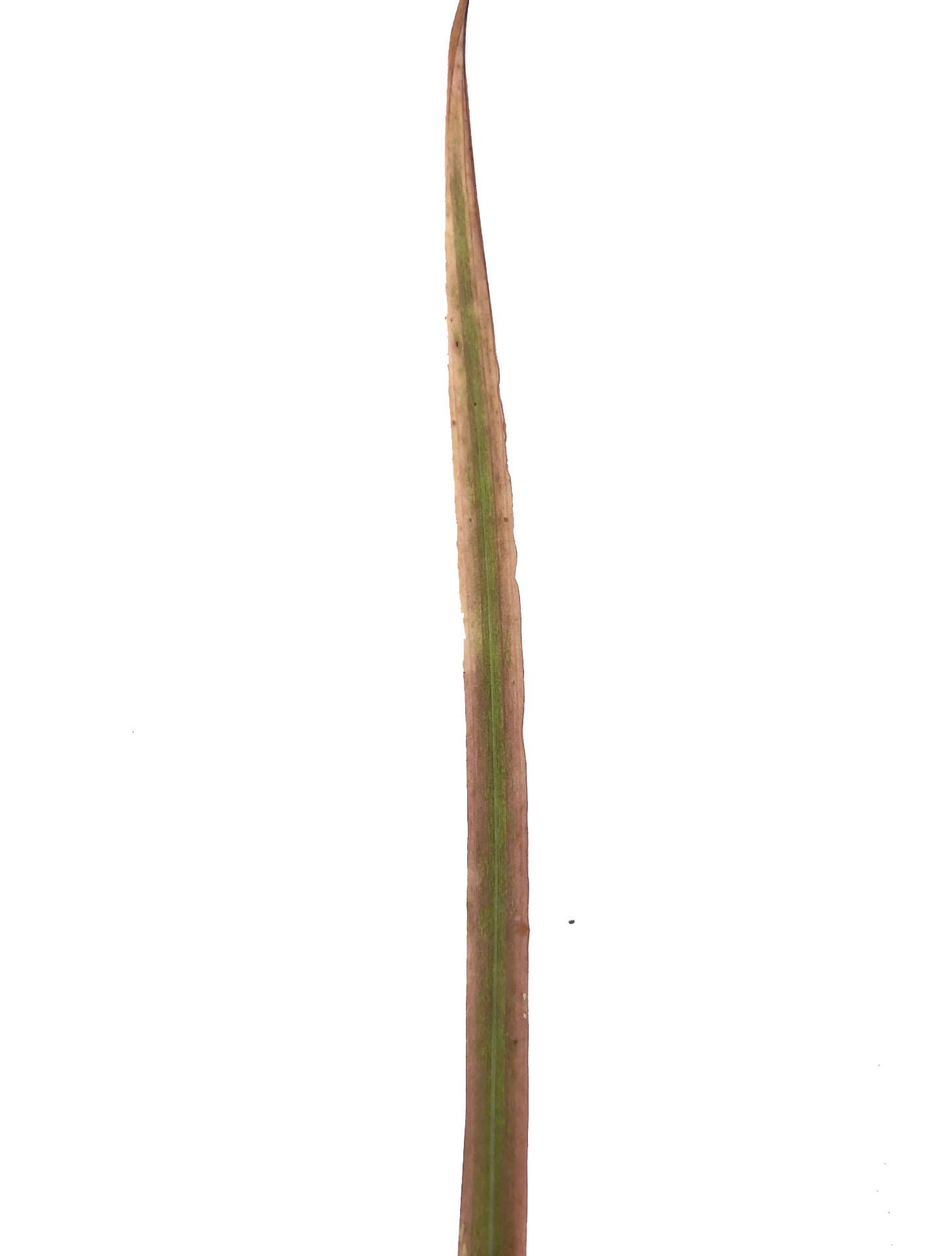Blight: (442, 0, 531, 1256)
